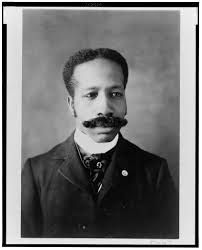no-mask: (56, 50, 140, 146)
